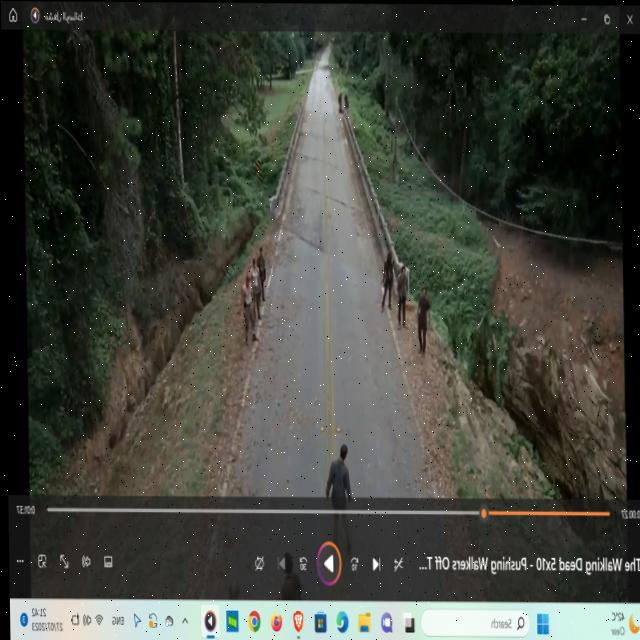Zombie: (337, 442, 347, 458)
human: (384, 251, 392, 261), (243, 274, 249, 287), (419, 287, 427, 296), (398, 266, 406, 274), (250, 256, 255, 266), (258, 245, 262, 256)
